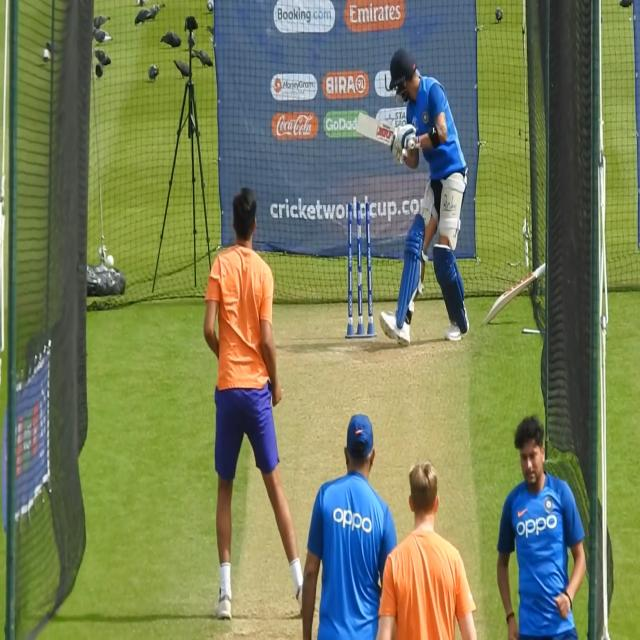ball: (105, 252, 115, 271)
stump: (343, 199, 375, 338)
